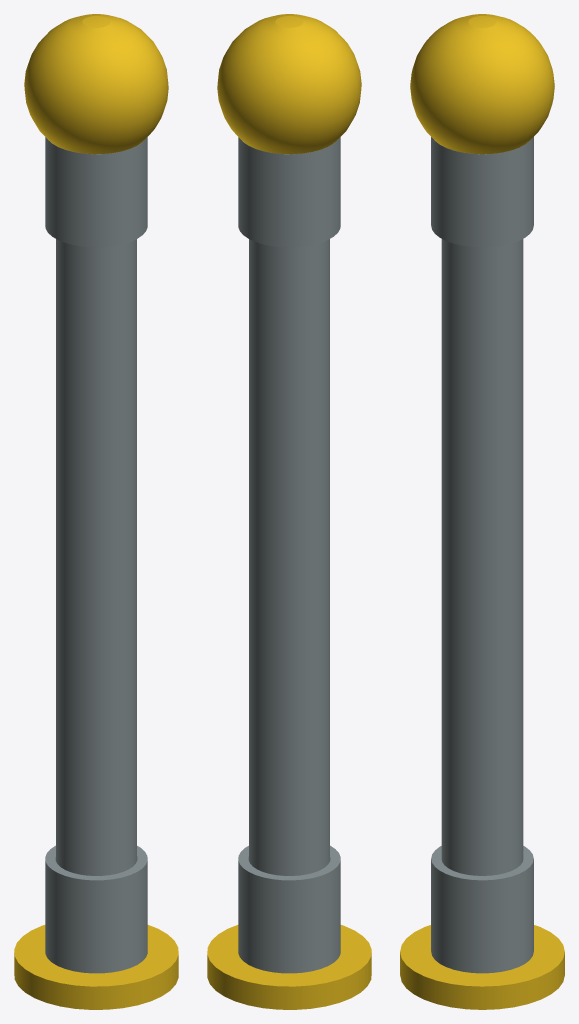
Rendered from Poste.fbx.
3 renders of one model, left to right at view 1: azimuth 30°, elevation 25°; view 2: azimuth 150°, elevation 25°; view 3: azimuth 270°, elevation 25°, orthographic.
Visible parts, largest first — view 1: Poste; view 2: Poste; view 3: Poste.
Boxes of the visible parts, bbox=[...] form: Poste: bbox=[14, 14, 178, 1009]; Poste: bbox=[207, 14, 371, 1009]; Poste: bbox=[400, 14, 564, 1009].
Bounding box in the file's own units: 321 × 2051 × 321.
